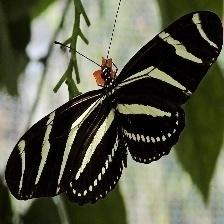butterfly: (5, 11, 223, 206)
